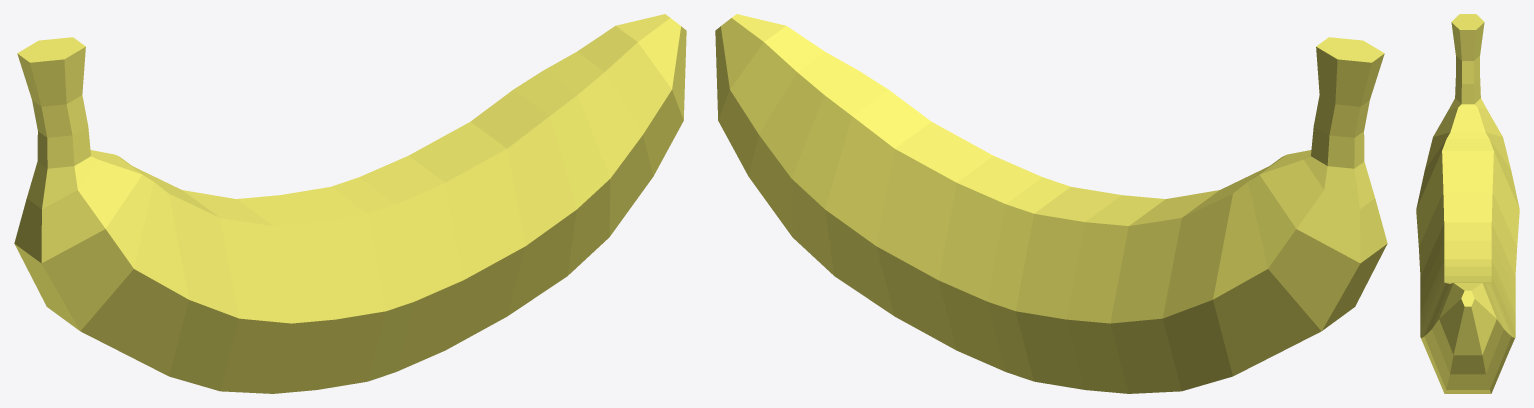
Rendered from Banana.fbx.
3 views of the same model, side by side, from view 1: azimuth 30°, elevation 25°; view 2: azimuth 150°, elevation 25°; view 3: azimuth 270°, elevation 25° (orthographic). The views are drawn at different scales.
Visible parts, largest first — view 1: Cylinder; view 2: Cylinder; view 3: Cylinder.
Part boxes in pixels (<box>): Cylinder: <box>14,14,686,393</box>; Cylinder: <box>715,14,1387,393</box>; Cylinder: <box>1416,14,1519,393</box>.
Size of the model in its own units: 389 by 220 by 81.98.
